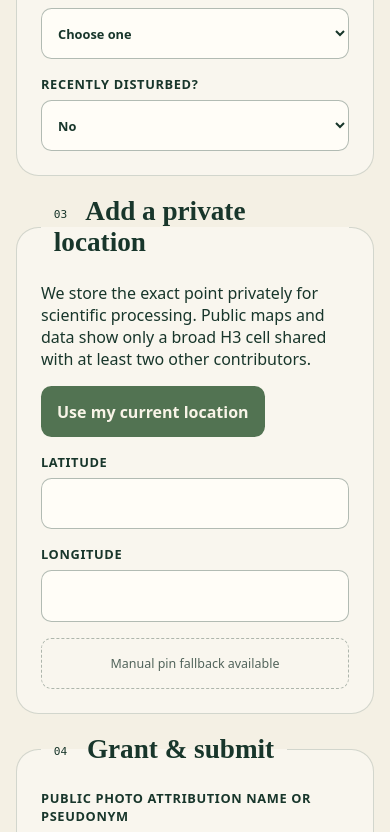
Test: the phone app (WP-APP-1) › uses the web view’s location in the Android app
(page scrolled)
Click the button "Use my current location": point(153, 412) [41, 386, 265, 437]
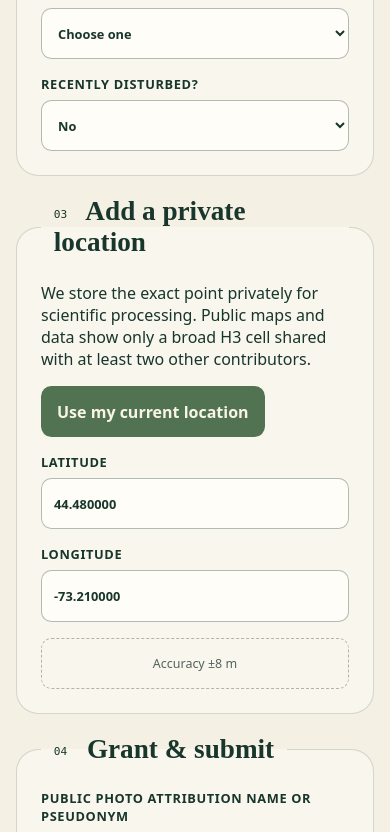
Expected: the text "Accuracy ±8 m" is shown, [41, 638, 349, 689]
